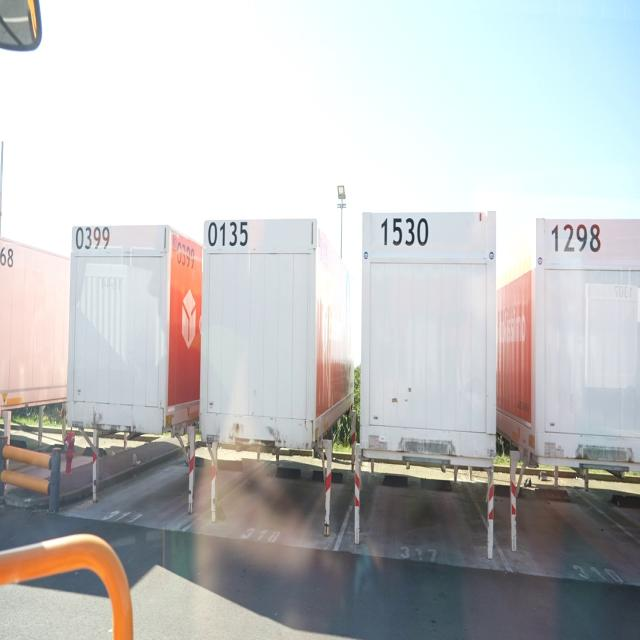Code: (548, 216, 604, 258), (378, 213, 429, 252), (205, 215, 249, 251), (73, 221, 110, 257), (175, 234, 196, 269)
